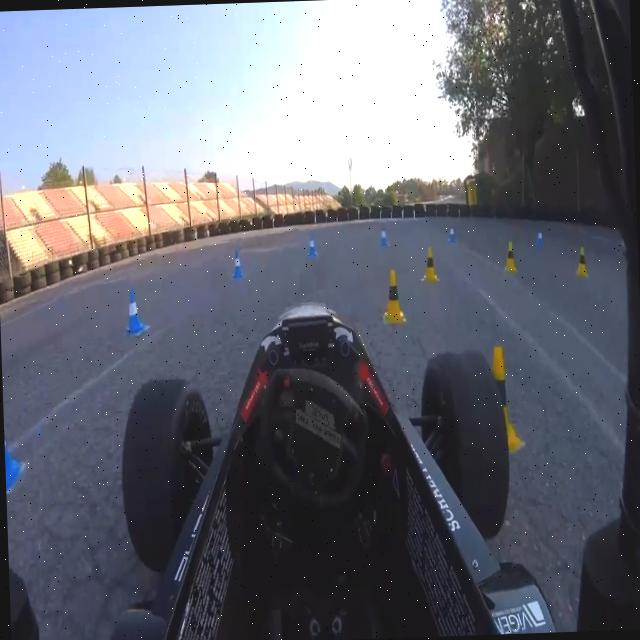blue_cone: (2, 385, 27, 497), (124, 288, 146, 340), (229, 244, 245, 281), (306, 233, 318, 261), (377, 225, 389, 252), (532, 225, 544, 252), (446, 223, 457, 250)
yellow_cone: (480, 348, 524, 460), (381, 272, 406, 328), (419, 244, 438, 286), (500, 241, 520, 278), (574, 244, 592, 280)
